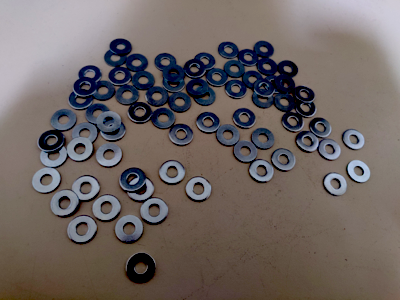circle: (126, 253, 156, 284), (69, 216, 97, 244), (51, 190, 79, 218), (116, 216, 144, 243), (141, 198, 169, 225), (93, 195, 122, 221), (33, 168, 61, 194), (72, 176, 100, 201), (186, 177, 212, 203), (120, 168, 147, 192), (66, 138, 93, 162), (128, 178, 154, 202), (41, 144, 67, 168), (38, 131, 65, 154), (159, 161, 186, 184), (100, 119, 127, 142), (97, 144, 122, 168), (324, 173, 348, 197), (216, 124, 241, 147), (74, 123, 98, 146), (250, 160, 274, 183), (272, 149, 296, 172), (252, 128, 276, 151), (196, 112, 221, 134), (170, 124, 195, 146), (152, 108, 177, 130), (128, 102, 153, 124), (51, 110, 77, 131), (234, 141, 258, 163), (233, 108, 257, 130), (97, 112, 122, 133), (69, 90, 95, 110), (297, 131, 320, 153), (348, 161, 371, 183), (253, 88, 276, 110), (87, 104, 111, 125), (116, 85, 140, 106), (109, 66, 132, 87), (318, 139, 341, 160), (133, 71, 156, 92), (78, 65, 102, 85), (154, 53, 178, 73), (168, 93, 192, 113), (193, 86, 217, 106), (264, 75, 286, 96), (274, 92, 296, 113), (92, 81, 115, 101), (309, 118, 332, 138), (342, 130, 365, 150), (206, 68, 229, 88), (74, 78, 98, 97), (162, 74, 186, 93), (243, 70, 264, 91), (282, 112, 304, 132), (226, 80, 248, 100), (104, 49, 127, 68), (126, 54, 149, 73), (275, 74, 296, 94), (254, 79, 275, 99), (224, 60, 246, 79), (163, 65, 186, 83), (186, 79, 209, 97), (258, 58, 279, 77), (296, 99, 317, 118), (184, 60, 206, 78), (194, 53, 216, 71), (278, 61, 299, 79), (110, 39, 132, 56), (219, 42, 239, 60), (239, 49, 259, 67), (255, 41, 275, 59), (296, 86, 316, 104)
